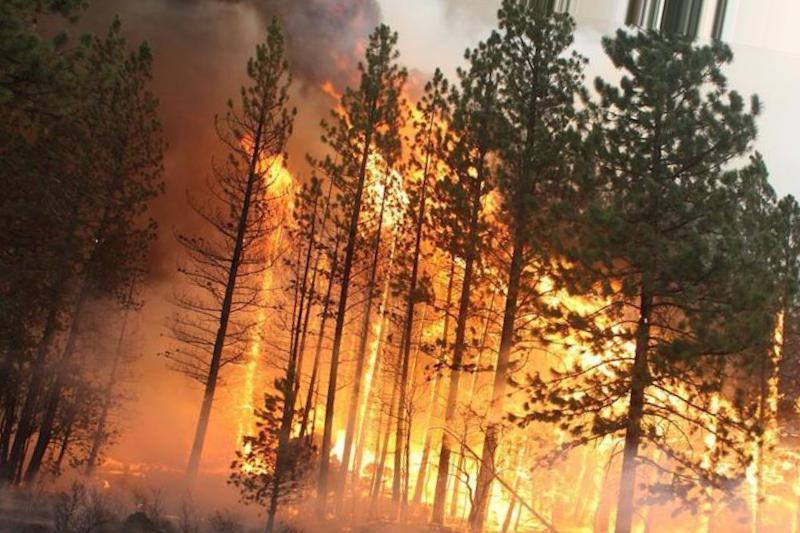fire: (344, 94, 507, 512), (531, 272, 791, 528), (242, 116, 289, 474)
